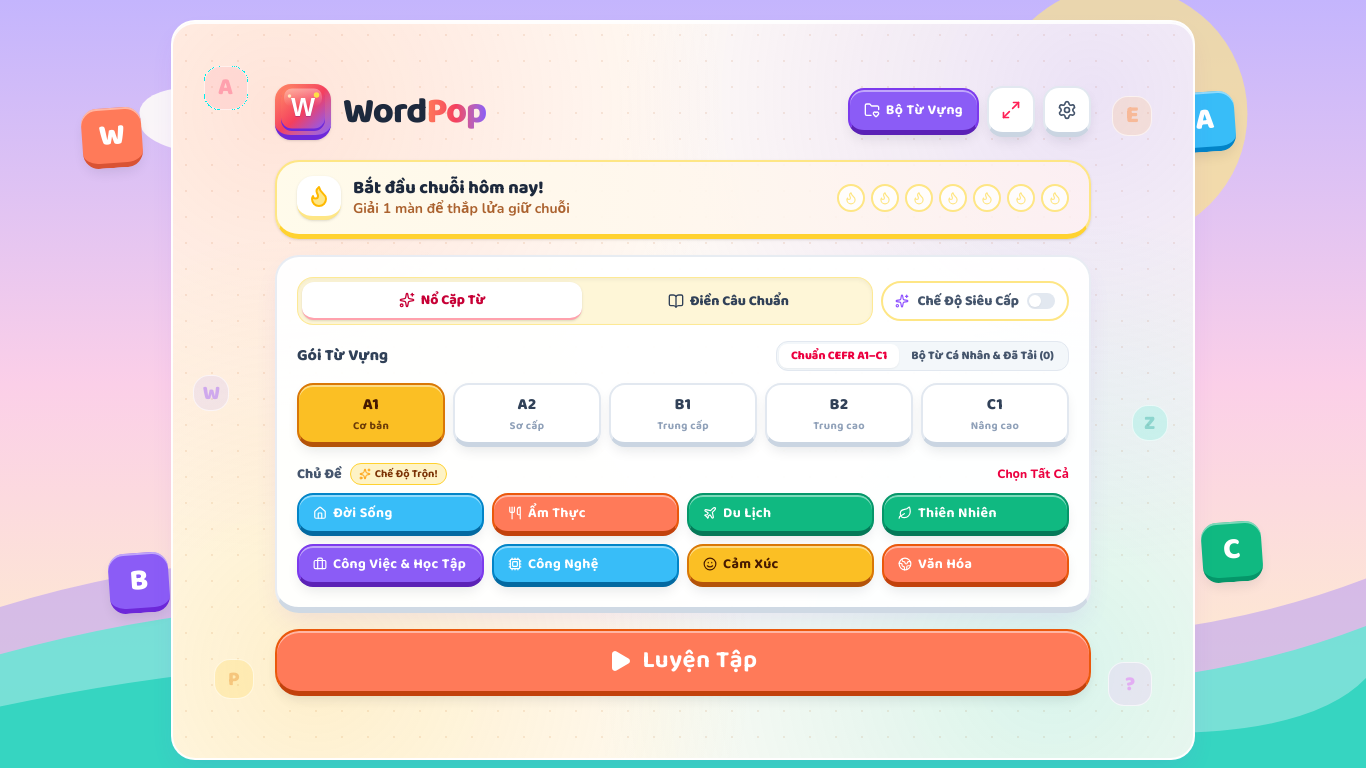
App integration › starts Sentence Pop practice and opens Word Decks library cleanly
# Open Word Decks library ("Bộ Từ Vựng")
Click the button with test id "open-decks-btn". click: (913, 112)
box: [848,88,979,135]
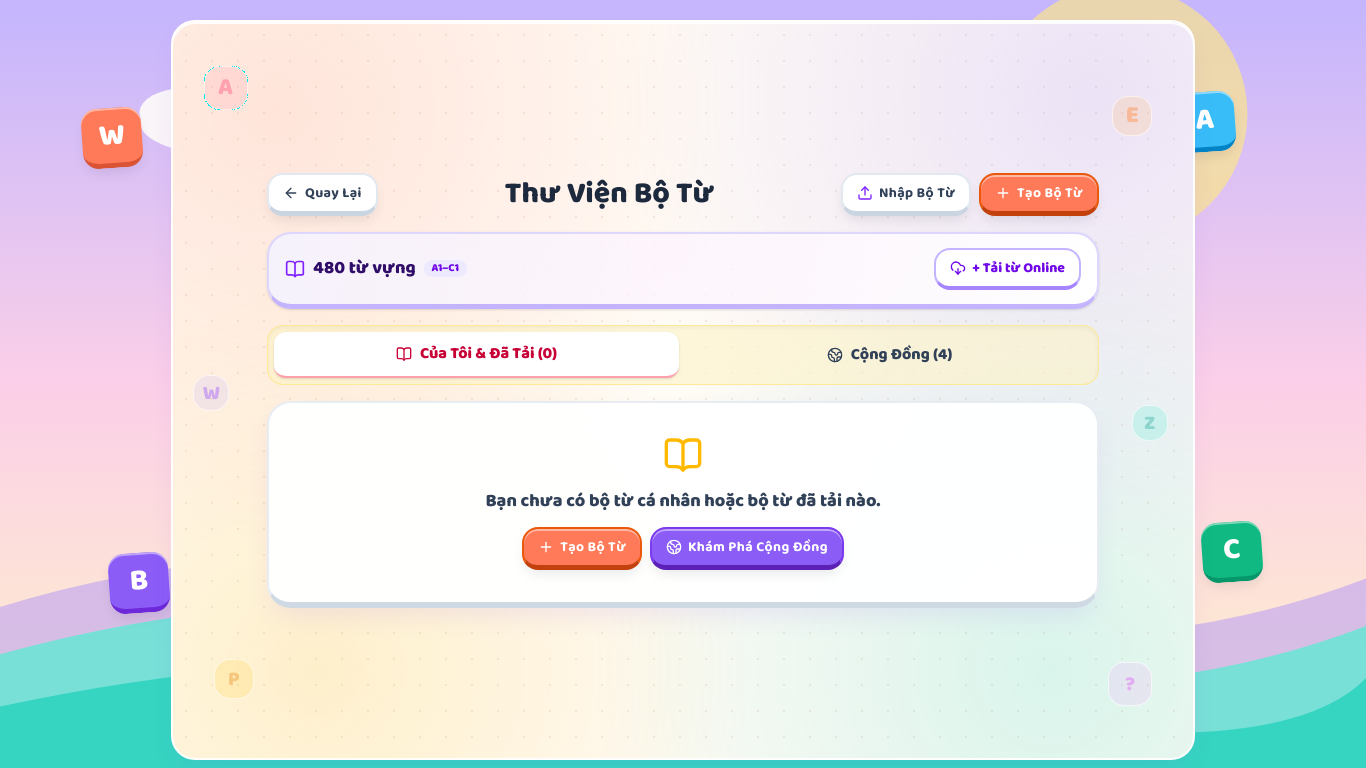
Expected: the heading "Thư Viện Bộ Từ" is shown, [505,176,714,212]
Click the button "Quay Lại". click: (322, 194)
box: [267,172,378,216]
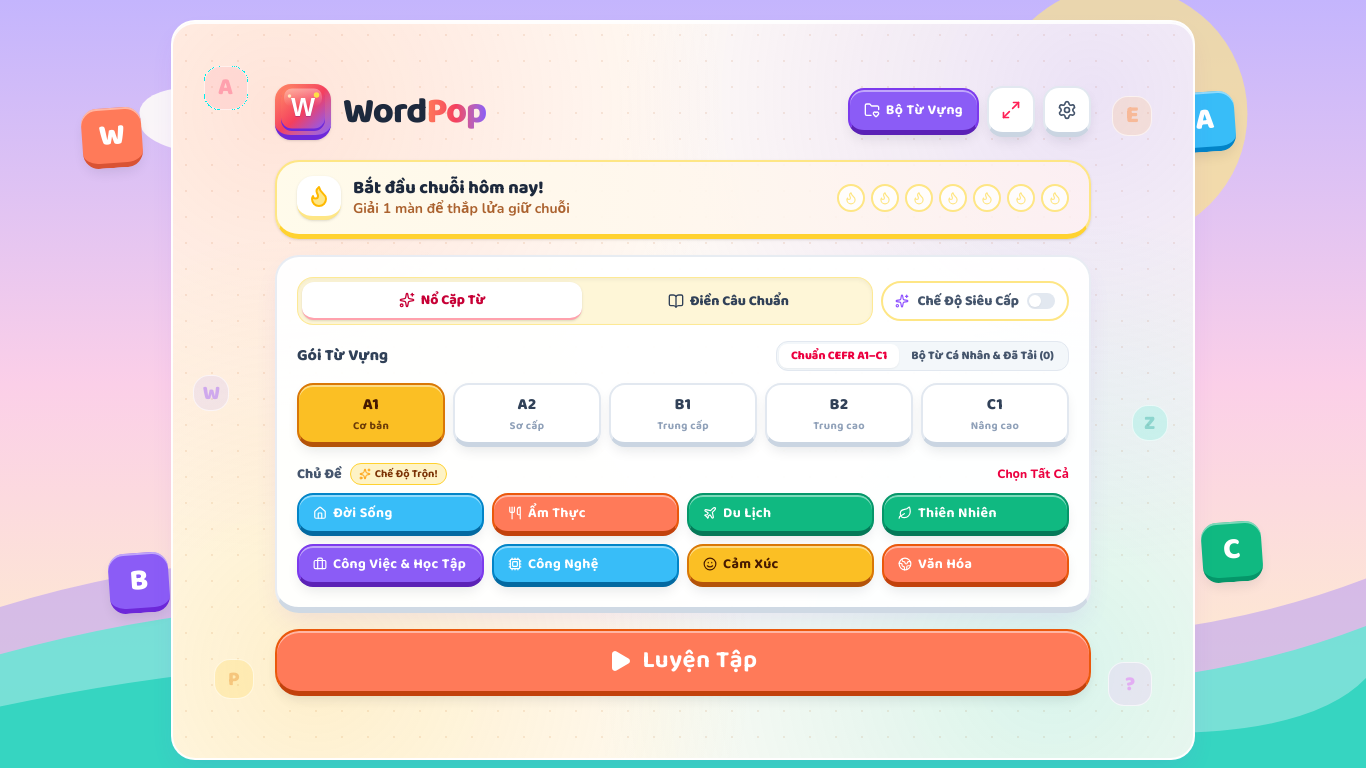
# Switch game mode to Sentence Pop ("Điền Câu Chuẩn") and Practice
Click the button "Điền Câu Chuẩn". click: (728, 301)
box: [588,282,868,320]
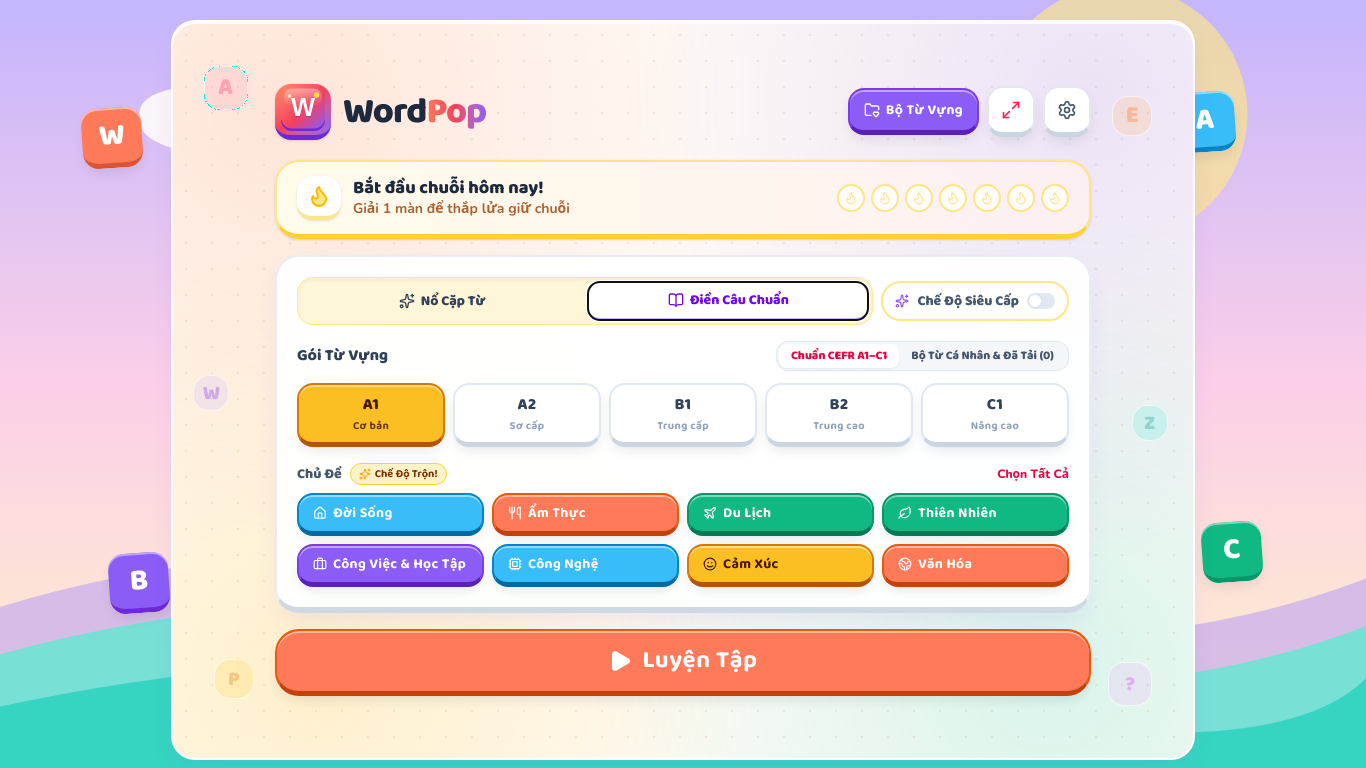
Click the button "Luyện Tập". click: (683, 663)
box: [275,629,1091,696]
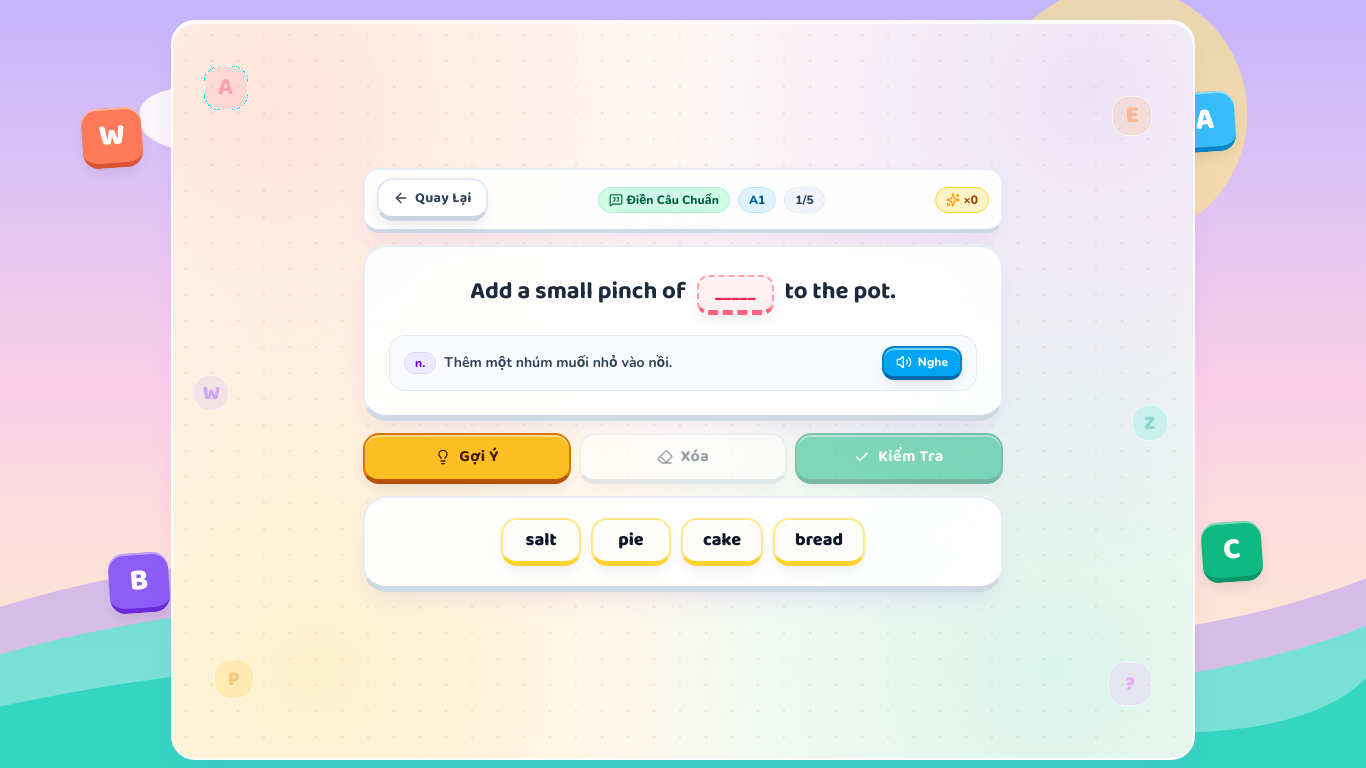
Expected: the element with test id "daily-streak-banner" is gone
Expected: the button with test id "sentence-slot" is shown, [697,275,774,315]
Expected: the element with test id "sentence-pop-choices" is shown, [363,496,1003,592]
# Return to Home
Click the button "Quay Lại". click: (432, 200)
box: [377,178,488,221]
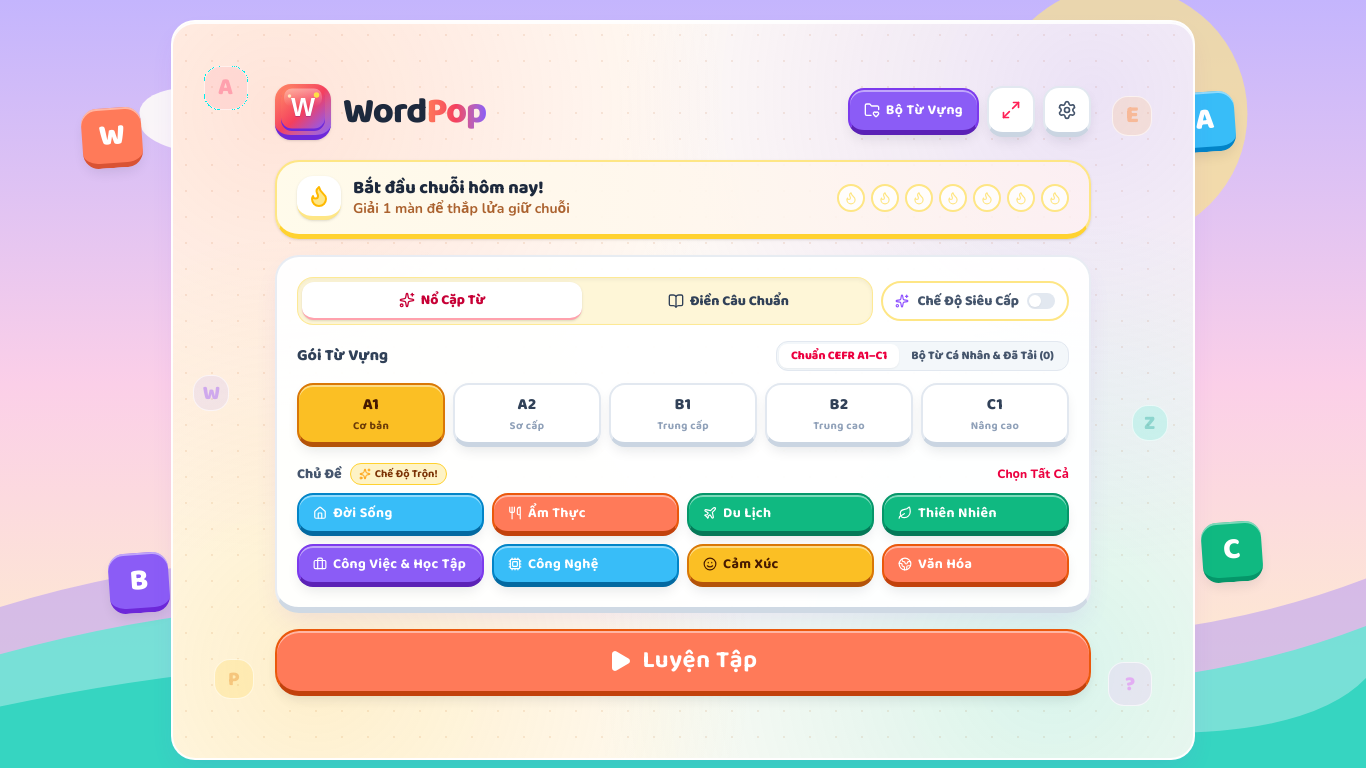
Expected: the element with test id "daily-streak-banner" is shown, [275,160,1091,239]
